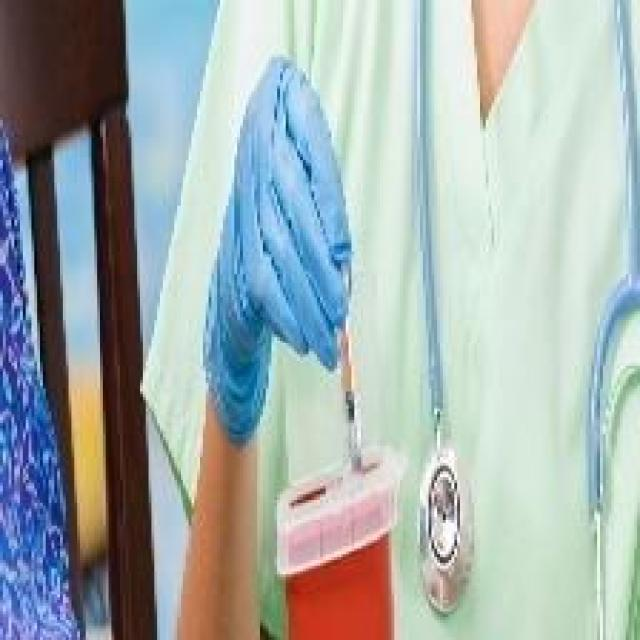syringe: (320, 290, 373, 472)
